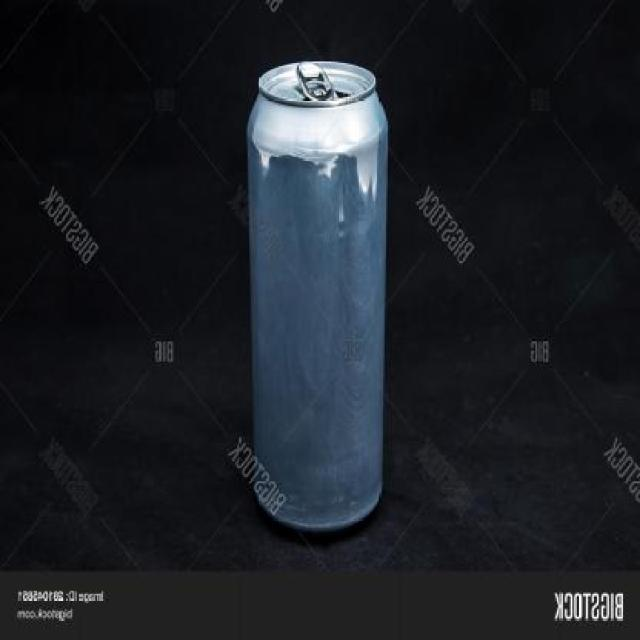metal: (246, 61, 387, 527)
